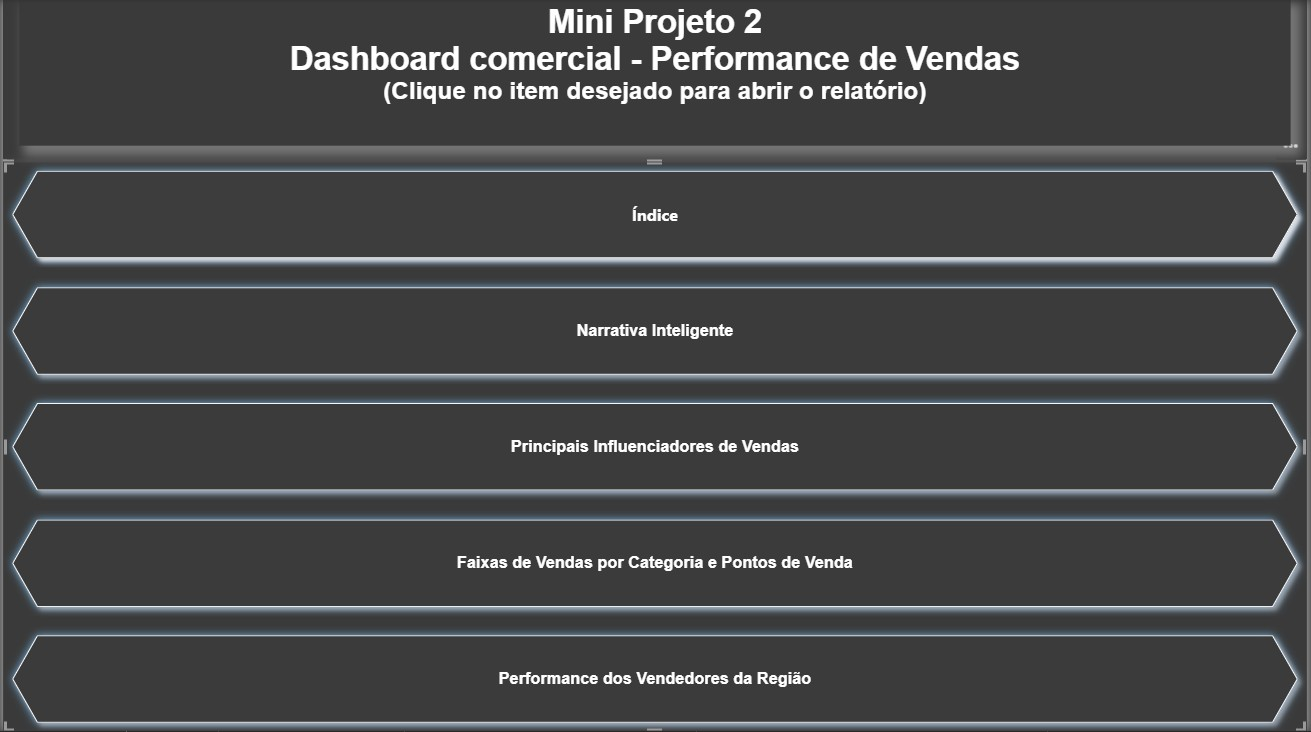

Layout of this report page (visuals, bound fields, positions):
{"tool":"powerbi","page":{"name":"Índice","canvas":[1280,720],"ordinal":0},"visuals":[{"type":"pageNavigator","box":[0,160,1280,560],"z":0},{"type":"textbox","box":[16,0,1248,144],"z":1000}]}

Visuals, with their boxes in screenshot pixels (x1, y1, x2, y2), scaled from the page's 1280x720 canvas onto the 1311x732 screenshot:
pageNavigator: 0,163,1310,731
textbox: 16,0,1295,146
